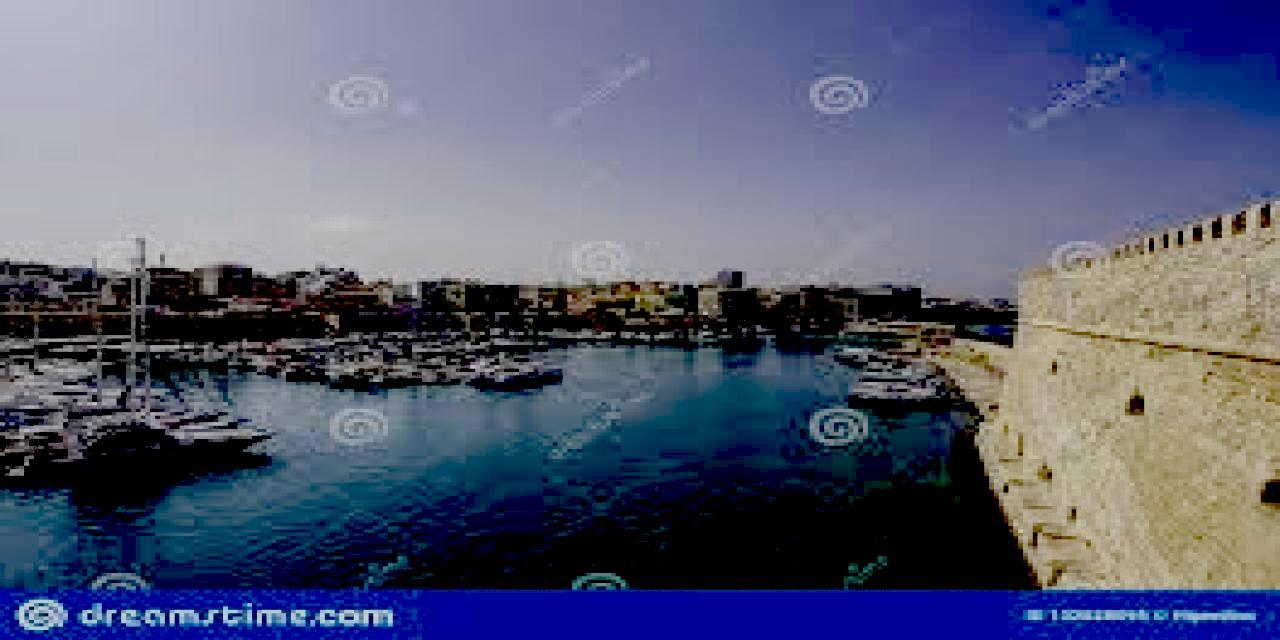Kules: (968, 197, 1280, 592)
